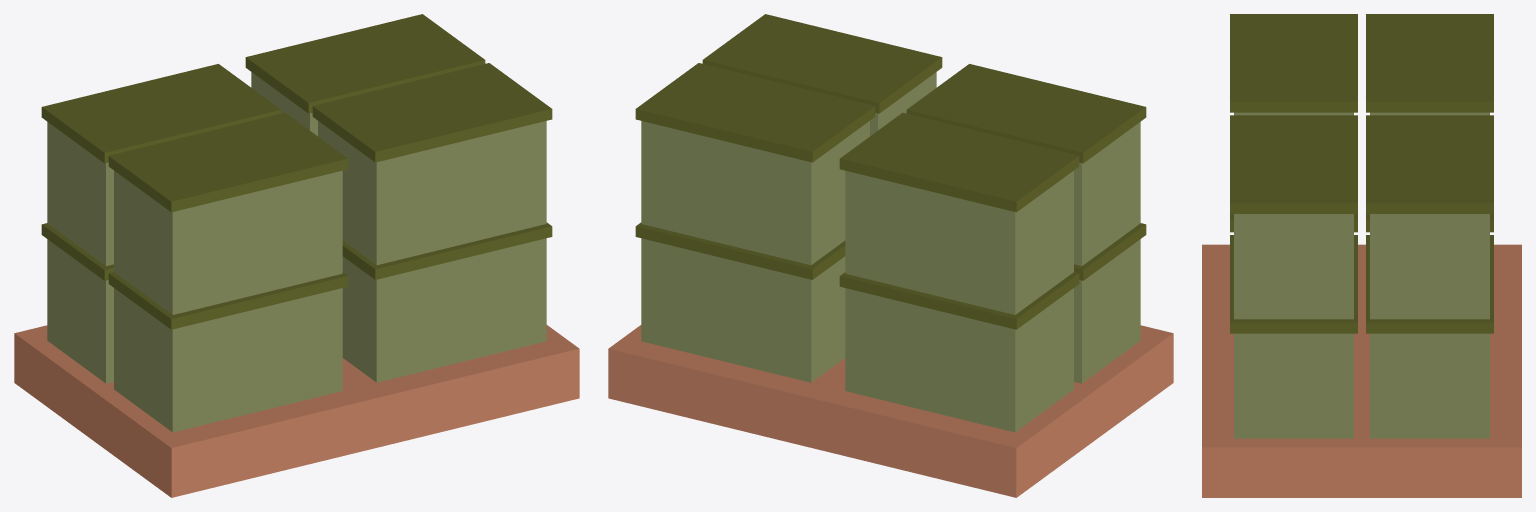
Rendered from SM_CajasMunicion_v3_Pale_LOD1.fbx.
3 renders of one model, left to right at view 1: azimuth 30°, elevation 25°; view 2: azimuth 150°, elevation 25°; view 3: azimuth 270°, elevation 25°, orthographic.
Parts seen in each view (by area): view 1: SM_farp_betera_v23_LOD1; view 2: SM_farp_betera_v23_LOD1; view 3: SM_farp_betera_v23_LOD1.
Boxes of the visible parts, x1,y1,x2,y2 form: SM_farp_betera_v23_LOD1: (14,14,579,497); SM_farp_betera_v23_LOD1: (608,14,1173,497); SM_farp_betera_v23_LOD1: (1202,14,1521,497).
Bounding box in the file's own units: 1.2 × 0.795 × 0.8.
